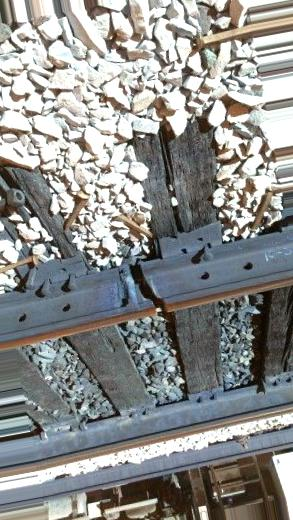tracks_fault: (106, 258, 192, 332)
